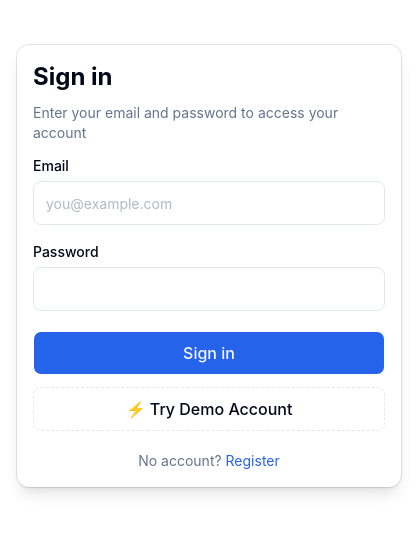
Test: LoginPage › should show validation error for invalid email format
The image size is (419, 541).
In the field labelled "Email": (209, 203) [33,181,385,225], type "not-an-@email"
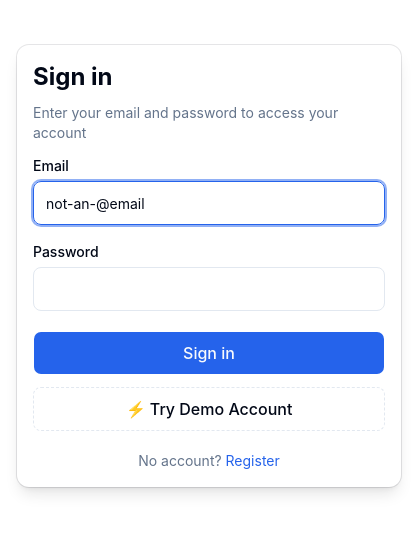
Click the button "Sign in": (209, 353) [33,331,385,375]
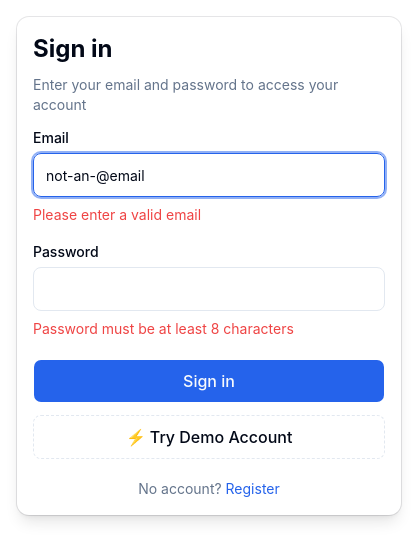
Result: the text "Please enter a valid email" is shown at [33,206,201,223]
